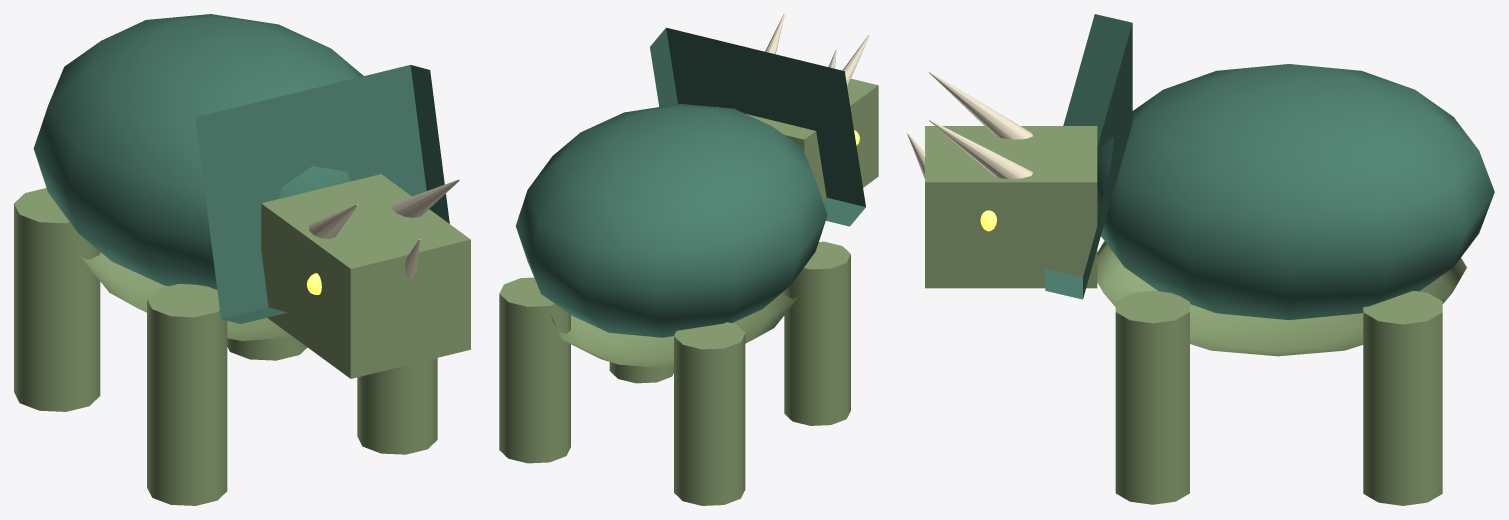
The model's file is dinosaur_quadruped.glb.
3 renders of one model, left to right at view 1: azimuth 30°, elevation 25°; view 2: azimuth 150°, elevation 25°; view 3: azimuth 270°, elevation 25°, orthographic. The views are drawn at different scales.
Visible parts, largest first — view 1: body; view 2: body; view 3: body.
Boxes of the visible parts, left/top/right/bottom form: body: left=14, top=14, right=470, bottom=505; body: left=499, top=14, right=878, bottom=505; body: left=907, top=14, right=1494, bottom=505.
Size of the model in its own units: 1.24 by 1.49 by 2.11.
